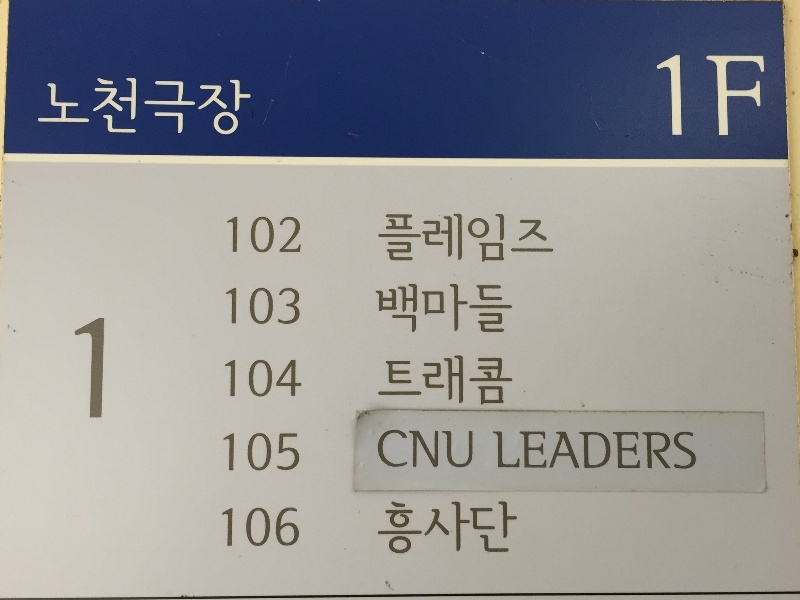text: (81, 312, 96, 421), (657, 50, 672, 143), (673, 50, 688, 143), (689, 50, 704, 143), (705, 50, 720, 143), (721, 50, 736, 143), (737, 50, 752, 143), (753, 50, 767, 143), (97, 312, 107, 421), (49, 74, 64, 141), (65, 74, 80, 141), (81, 74, 96, 141), (97, 74, 112, 141), (113, 74, 128, 141), (129, 74, 144, 141), (145, 74, 160, 141), (161, 74, 176, 141), (177, 74, 192, 141), (193, 74, 208, 141), (209, 74, 224, 141), (225, 74, 240, 141), (385, 499, 400, 558), (401, 499, 416, 558), (417, 499, 432, 558), (433, 499, 448, 558), (449, 499, 464, 558), (465, 499, 480, 558), (481, 499, 496, 558), (497, 499, 512, 558), (72, 312, 80, 421), (385, 211, 400, 267), (401, 211, 416, 267), (417, 211, 432, 267), (433, 211, 448, 267), (449, 211, 464, 267), (465, 211, 480, 267), (481, 211, 496, 267), (497, 211, 512, 267), (513, 211, 528, 267), (529, 211, 544, 267), (385, 354, 400, 410), (401, 354, 416, 410), (417, 354, 432, 410), (433, 354, 448, 410), (449, 354, 464, 410), (465, 354, 480, 410), (481, 354, 496, 410), (497, 354, 512, 410), (545, 211, 559, 267), (385, 283, 400, 335), (401, 283, 416, 335), (417, 283, 432, 335), (433, 283, 448, 335), (449, 283, 464, 335), (465, 283, 480, 335), (481, 283, 496, 335), (497, 283, 512, 335), (241, 74, 252, 141), (385, 426, 400, 471), (401, 426, 416, 471), (417, 426, 432, 471), (433, 426, 448, 471), (449, 426, 464, 471), (225, 506, 240, 549), (241, 506, 256, 549), (257, 506, 272, 549), (273, 506, 288, 549), (225, 286, 240, 328), (241, 286, 256, 328), (257, 286, 272, 328), (273, 286, 288, 328), (225, 431, 240, 473), (241, 431, 256, 473), (257, 431, 272, 473), (273, 431, 288, 473), (497, 430, 512, 472), (513, 430, 528, 472), (529, 430, 544, 472), (545, 430, 560, 472), (561, 430, 576, 472), (577, 430, 592, 472), (593, 430, 608, 472), (609, 430, 624, 472), (625, 430, 640, 472), (641, 430, 656, 472), (657, 430, 672, 472), (673, 430, 688, 472), (225, 357, 240, 398), (241, 357, 256, 398), (257, 357, 272, 398), (273, 357, 288, 398), (241, 216, 256, 253), (257, 216, 272, 253), (273, 216, 288, 253), (40, 74, 48, 141), (289, 357, 302, 398), (374, 283, 384, 335), (289, 286, 301, 328), (375, 211, 384, 267), (227, 216, 240, 253), (289, 506, 300, 549), (289, 431, 300, 473), (465, 426, 475, 471), (289, 216, 301, 253), (689, 430, 699, 472), (513, 499, 520, 558), (378, 354, 384, 410), (513, 354, 519, 410), (377, 426, 384, 471), (490, 430, 496, 472), (654, 50, 656, 143), (221, 506, 224, 549), (222, 431, 224, 473), (383, 499, 384, 558), (513, 283, 514, 335), (223, 357, 224, 398)
